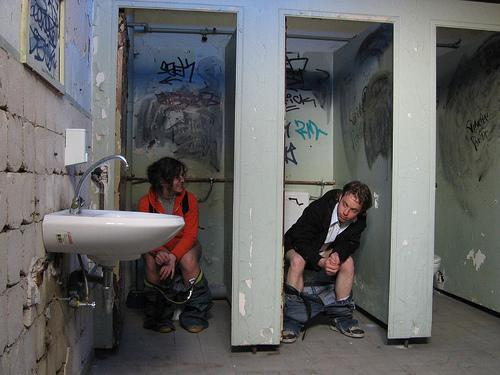Lavamanos: (34, 152, 186, 317)
